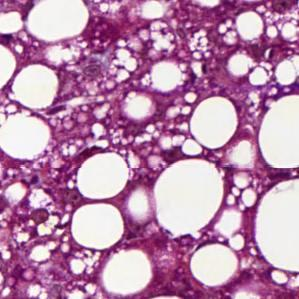steatosis: (189, 97, 243, 152), (0, 113, 53, 162), (103, 248, 154, 296), (70, 204, 127, 246), (77, 153, 130, 198), (11, 67, 63, 110), (187, 243, 235, 286)
